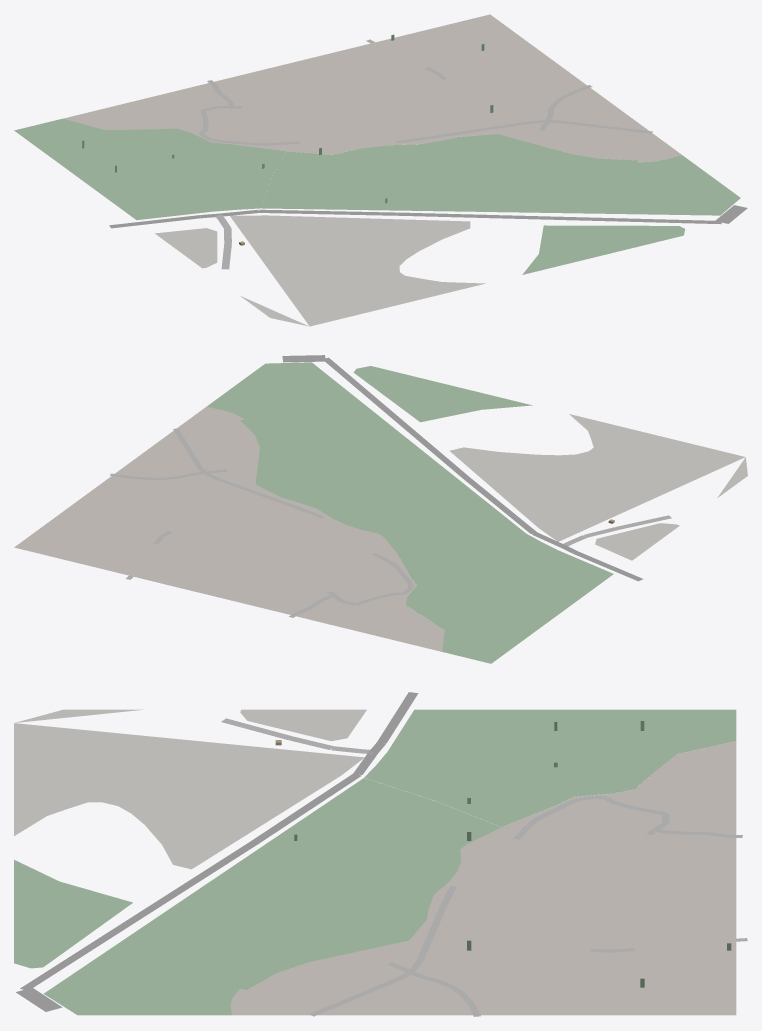
The picture shows the model from 3 angles, top to bottom: view 1: azimuth 30°, elevation 25°; view 2: azimuth 150°, elevation 25°; view 3: azimuth 270°, elevation 25°; orthographic projection. The views are drawn at different scales.
Size of the model in its own units: 532 by 8.27 by 508.
